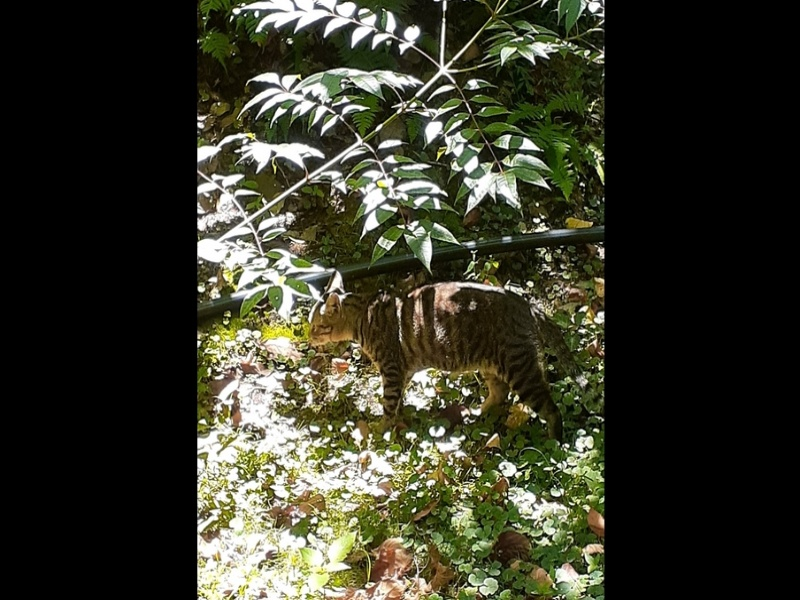cat: (300, 276, 567, 444)
